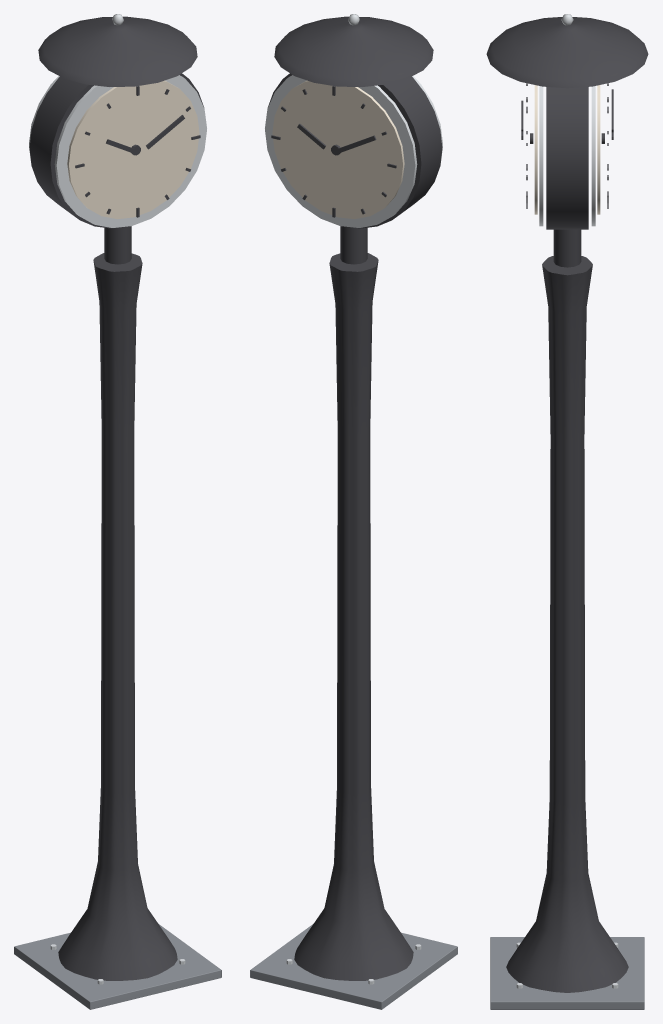
File: StreetClock_Post.fbx
3 renders of one model, left to right at view 1: azimuth 30°, elevation 25°; view 2: azimuth 150°, elevation 25°; view 3: azimuth 270°, elevation 25°, orthographic.
Parts seen in each view (by area): view 1: LOD0; view 2: LOD0; view 3: LOD0.
Boxes of the visible parts, <box> form: LOD0: <box>14,14,221,1009</box>; LOD0: <box>250,14,457,1009</box>; LOD0: <box>486,14,648,1009</box>.
Size of what is drawn, in the model's own units: 47.2 by 276 by 42.
